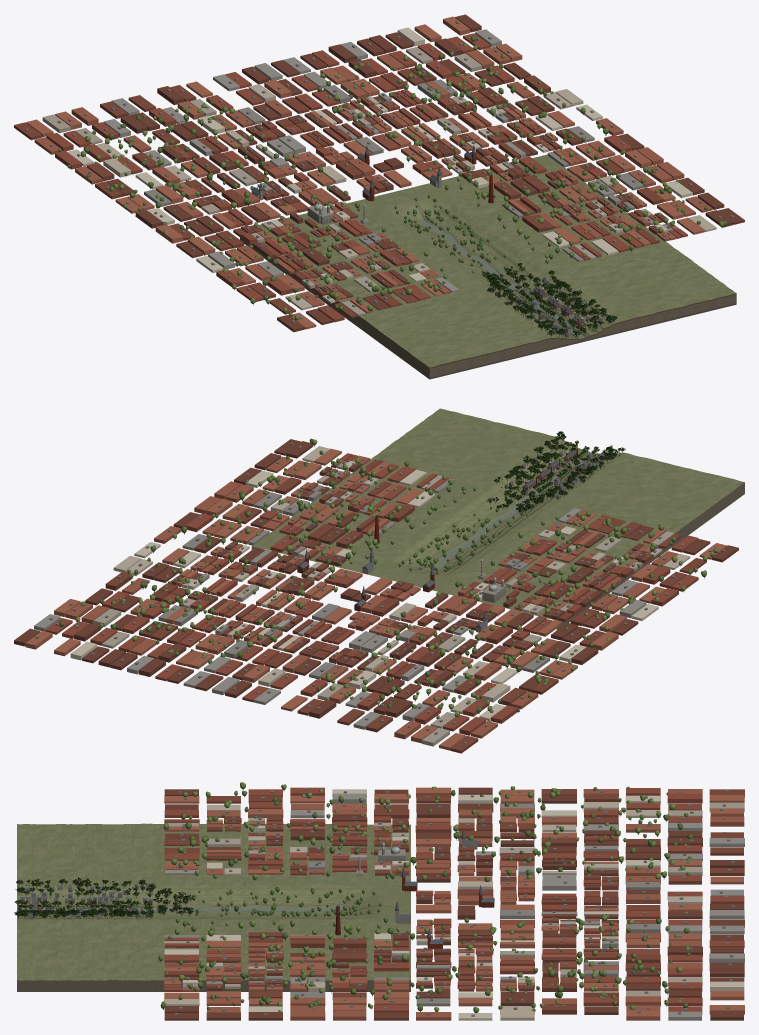
File: jones-falls-1850s.glb
The picture shows the model from 3 angles, top to bottom: view 1: azimuth 30°, elevation 25°; view 2: azimuth 150°, elevation 25°; view 3: azimuth 270°, elevation 25°; orthographic projection. The views are drawn at different scales.
Visible parts, largest first — view 1: fblk_224, ground_161, ground_0, part_1, fpen_225, ftree_233, ftree_231, ftree_237, ftree_230, ftree_238, ftree_228, ftree_234 (+3 smaller); view 2: fblk_224, ground_161, ground_0, fpen_225, ftree_233, ftree_231, ftree_237, ftree_230, ftree_238, ftree_228, part_1, ftree_234 (+3 smaller); view 3: fblk_224, ground_161, ground_0, fpen_225, ftree_233, part_1, ftree_231, ftree_237, ftree_230, ftree_238, ftree_228, ftree_234 (+11 smaller).
Part boxes in pixels (x1,y1,x2,y2): fblk_224: (14,14,744,332); ground_161: (258,154,670,318); ground_0: (364,245,736,367); part_1: (363,293,736,379); fpen_225: (25,21,733,323); ftree_233: (414,132,597,245); ftree_231: (324,70,517,162); ftree_237: (231,185,455,269); ftree_230: (128,120,323,197); ftree_238: (320,243,485,310); ftree_228: (470,206,657,270); ftree_234: (67,143,197,214); fblk_224: (14,439,738,753); ground_161: (252,456,678,620); ground_0: (375,408,744,529); fpen_225: (35,442,725,744); ftree_233: (229,502,468,578); ftree_231: (153,564,337,652); ftree_237: (430,538,609,630); ftree_230: (337,611,514,700); ftree_238: (480,510,663,564); ftree_228: (329,459,498,537); part_1: (679,482,744,541); ftree_234: (451,640,574,712); fblk_224: (164,787,744,1020); ground_161: (154,823,410,980); ground_0: (17,823,153,980); fpen_225: (170,788,734,1016); ftree_233: (271,903,460,979); part_1: (17,823,153,991); ftree_231: (461,914,647,980); ftree_237: (272,823,461,907); ftree_230: (468,818,646,881); ftree_238: (163,816,274,906); ftree_228: (158,906,275,979); ftree_234: (471,786,645,820).
Size of what is drawn, in the model's own units: 1278 by 102 by 1708.
241 materials, 191 textured.
